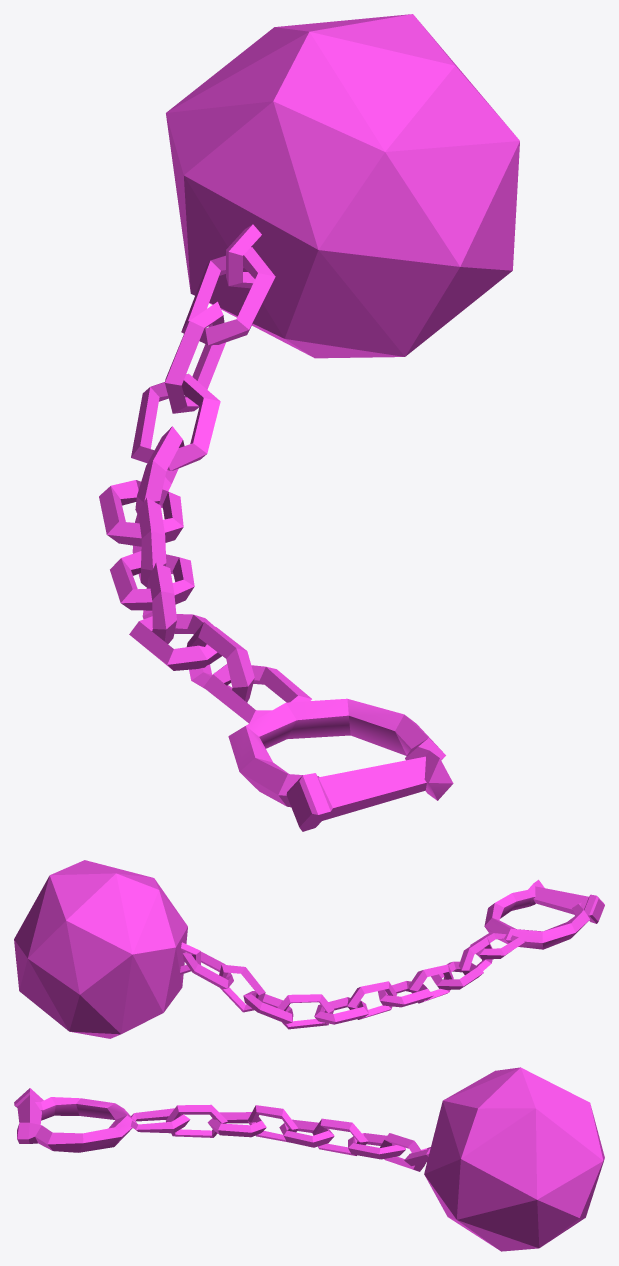
File: SM_Ball_Fantasy_B.fbx
3 views of the same model, one above another, from view 1: azimuth 30°, elevation 25°; view 2: azimuth 150°, elevation 25°; view 3: azimuth 270°, elevation 25° (orthographic). The views are drawn at different scales.
Parts seen in each view (by area): view 1: SM_Ball_Fantasy_B; view 2: SM_Ball_Fantasy_B; view 3: SM_Ball_Fantasy_B.
Boxes of the visible parts, x1,y1,x2,y2 form: SM_Ball_Fantasy_B: (99,14,519,831); SM_Ball_Fantasy_B: (14,860,604,1038); SM_Ball_Fantasy_B: (14,1067,604,1251).
Size of the model in its own units: 0.6495 by 0.3053 by 0.9474.
